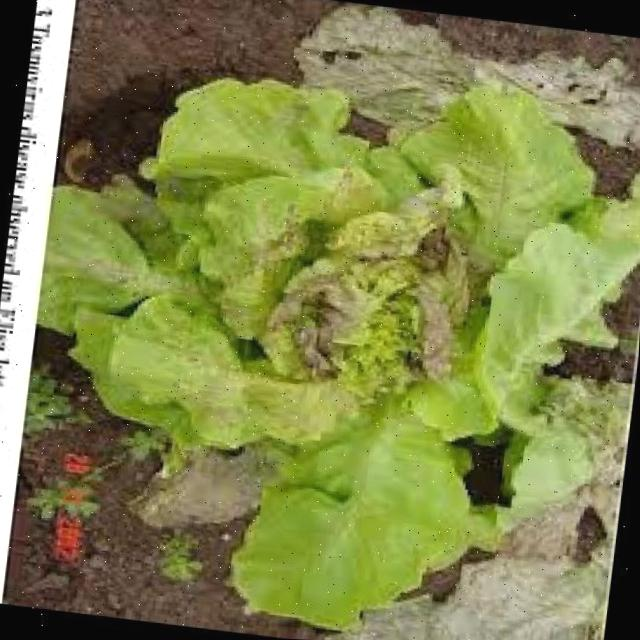Lettuce Mosaic Virus: (95, 106, 564, 475)
